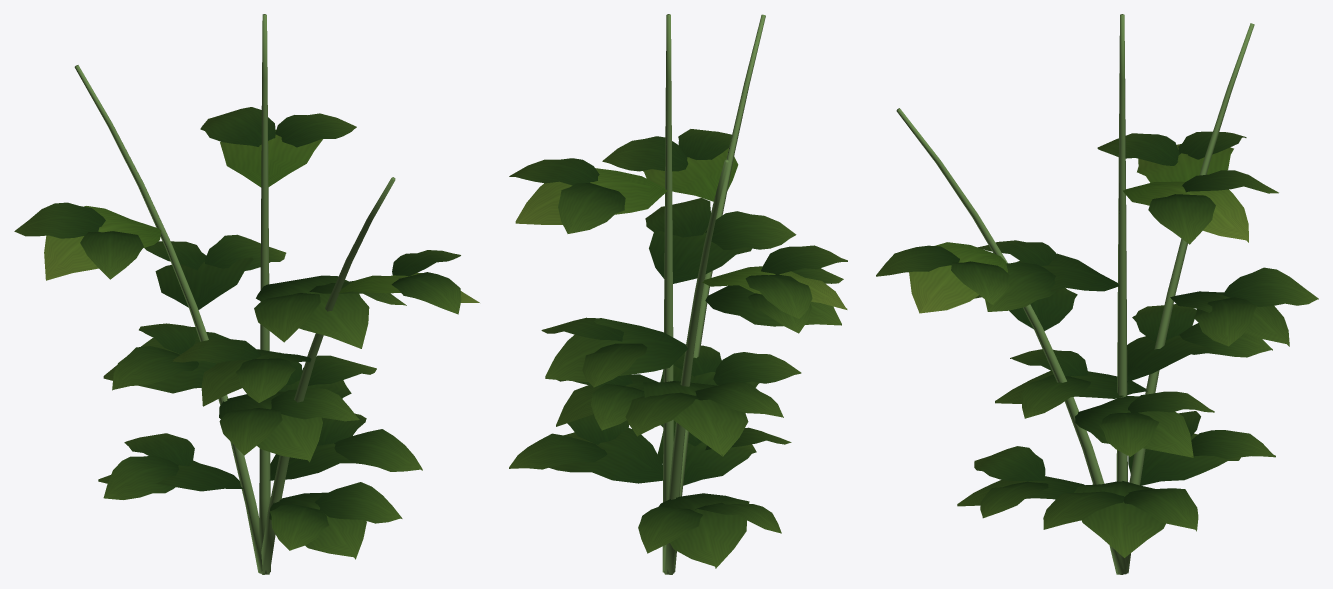
File: rose-06-lod.glb
The picture shows the model from 3 angles, left to right: view 1: azimuth 30°, elevation 25°; view 2: azimuth 150°, elevation 25°; view 3: azimuth 270°, elevation 25°; orthographic projection.
Parts seen in each view (by area): view 1: rose_stage_06_leaf_veins.011, rose_stage_06_stem_fibres.011, rose_stage_06_young_leaf.011; view 2: rose_stage_06_leaf_veins.011, rose_stage_06_stem_fibres.011, rose_stage_06_young_leaf.011; view 3: rose_stage_06_leaf_veins.011, rose_stage_06_stem_fibres.011, rose_stage_06_young_leaf.011.
Boxes of the visible parts, x1,y1,x2,y2 form: rose_stage_06_leaf_veins.011: (14,107,461,559); rose_stage_06_stem_fibres.011: (74,14,395,574); rose_stage_06_young_leaf.011: (44,129,479,302); rose_stage_06_leaf_veins.011: (509,129,847,568); rose_stage_06_stem_fibres.011: (662,14,765,574); rose_stage_06_young_leaf.011: (515,148,847,309); rose_stage_06_leaf_veins.011: (876,131,1318,557); rose_stage_06_stem_fibres.011: (896,14,1254,574); rose_stage_06_young_leaf.011: (909,144,1248,313).
Bounding box in the file's own units: 0.2449 × 0.3837 × 0.2757.
3 materials, 2 textured.
